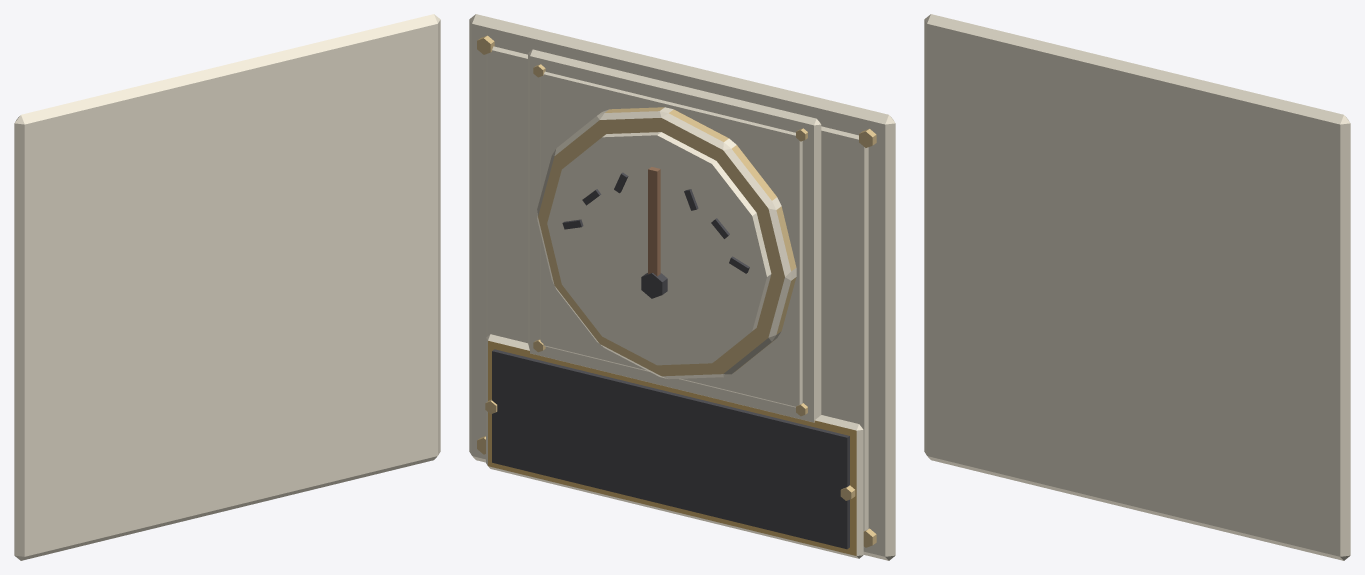
The model's file is Disp_Gauge.fbx.
The picture shows the model from 3 angles, left to right: view 1: azimuth 30°, elevation 25°; view 2: azimuth 150°, elevation 25°; view 3: azimuth 330°, elevation 25°; orthographic projection.
Visible parts, largest first — view 1: Disp_Gauge; view 2: Disp_Gauge, Needle; view 3: Disp_Gauge.
Part boxes in pixels (left/top/right/bottom): Disp_Gauge: left=14, top=14, right=440, bottom=560; Disp_Gauge: left=469, top=14, right=895, bottom=560; Needle: left=641, top=167, right=667, bottom=298; Disp_Gauge: left=924, top=14, right=1350, bottom=560.
Size of the model in its own units: 0.96 by 0.96 by 0.1347.
